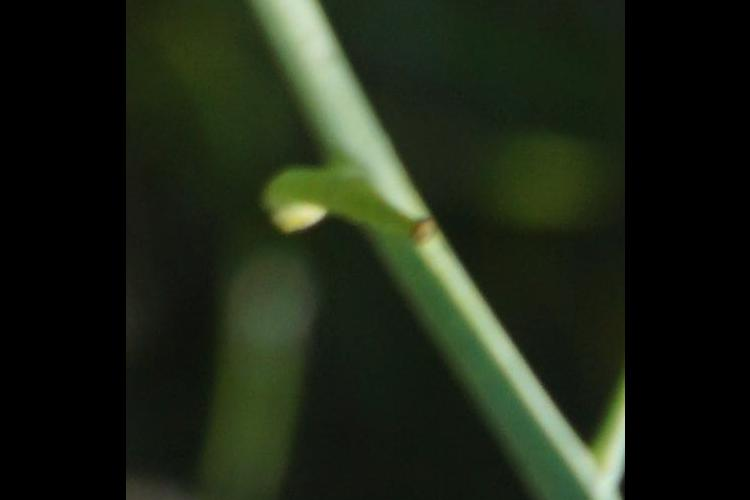pod: (237, 154, 457, 280)
